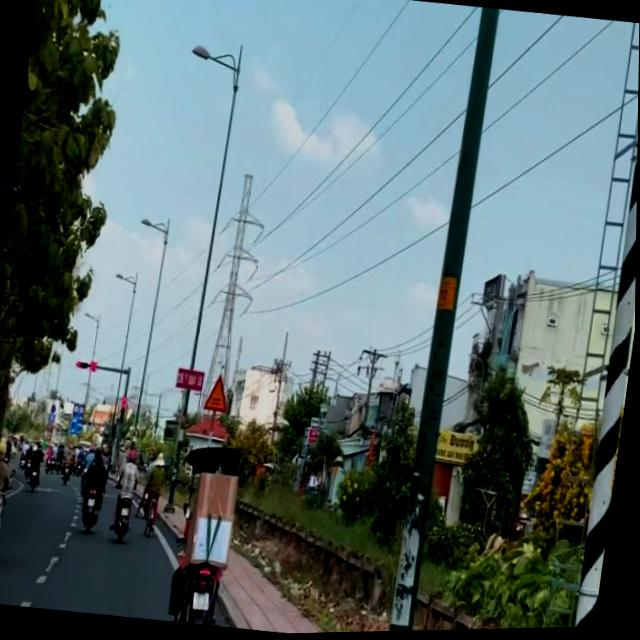Giao nhau voi duong sat co rao chan: (203, 371, 234, 413)
